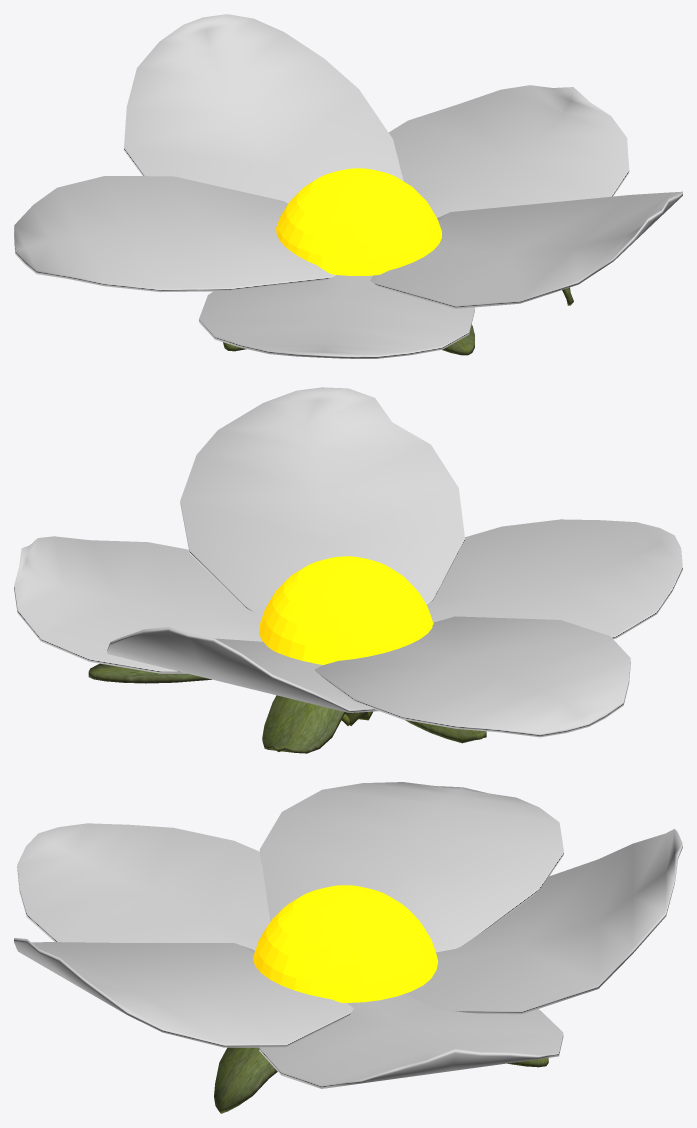
The picture shows the model from 3 angles, top to bottom: view 1: azimuth 30°, elevation 25°; view 2: azimuth 150°, elevation 25°; view 3: azimuth 270°, elevation 25°; orthographic projection. The views are drawn at different scales.
Parts seen in each view (by area): view 1: calyx1_001.009, calyx1_001.010, calyx1_001.011, calyx1_001.008, calyx1_001.012, Sphere.001; view 2: calyx1_001.008, calyx1_001.010, calyx1_001.012, calyx1_001.011, Sphere.001, calyx1_001.009, calyx3, calyx1.002, calyx1_001.001; view 3: calyx1_001.010, calyx1_001.012, calyx1_001.009, calyx1_001.008, calyx1_001.011, Sphere.001, calyx3_001.
Boxes of the visible parts, box(x1,y1,x2,y2) form: calyx1_001.009: box(123, 14, 403, 203); calyx1_001.010: box(14, 176, 336, 292); calyx1_001.011: box(388, 85, 629, 217); calyx1_001.008: box(370, 191, 682, 308); calyx1_001.012: box(199, 275, 474, 358); Sphere.001: box(276, 168, 441, 275); calyx1_001.008: box(180, 387, 464, 615); calyx1_001.010: box(315, 616, 630, 737); calyx1_001.012: box(427, 519, 682, 639); calyx1_001.011: box(14, 536, 262, 673); Sphere.001: box(259, 556, 433, 664); calyx1_001.009: box(107, 627, 378, 712); calyx3: box(262, 695, 369, 753); calyx1.002: box(88, 663, 349, 725); calyx1_001.001: box(345, 712, 486, 743); calyx1_001.010: box(259, 782, 563, 952); calyx1_001.012: box(17, 823, 270, 950); calyx1_001.009: box(406, 829, 682, 1014); calyx1_001.008: box(14, 938, 353, 1047); calyx1_001.011: box(259, 993, 563, 1088); Sphere.001: box(253, 885, 438, 1002); calyx3_001: box(214, 1047, 277, 1113).
Bounding box in the file's own units: 0.1134 × 0.1053 × 0.0365.
Materials: 2 (1 with a texture image).
